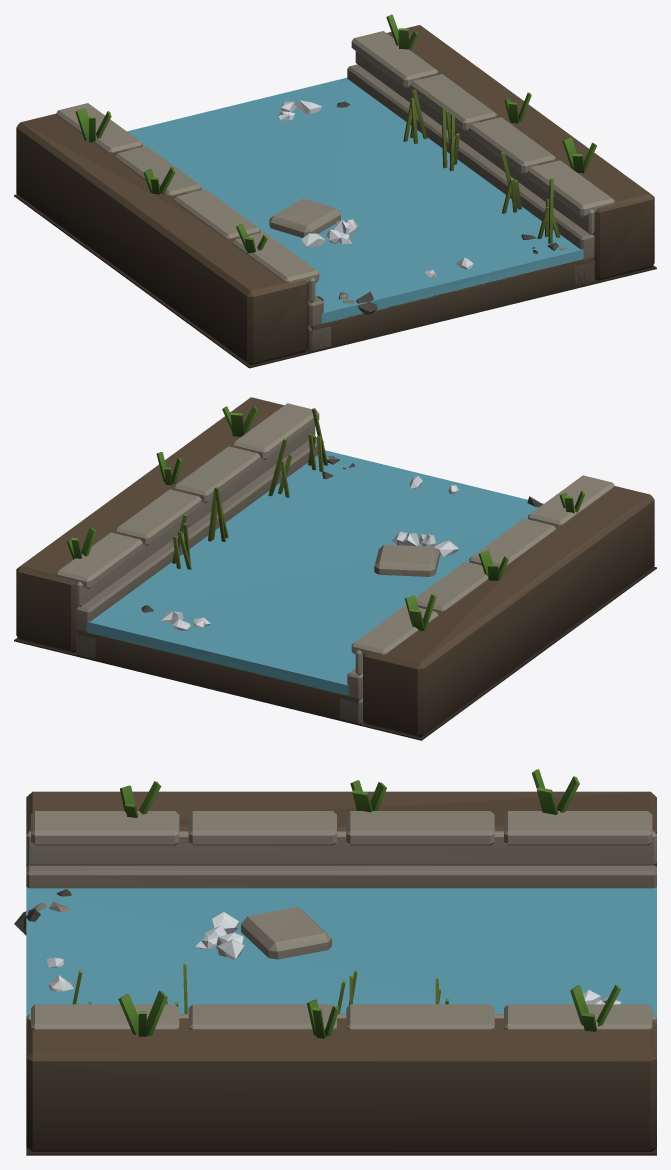
The model's file is river-under-bridge-tile.glb.
The picture shows the model from 3 angles, top to bottom: view 1: azimuth 30°, elevation 25°; view 2: azimuth 150°, elevation 25°; view 3: azimuth 270°, elevation 25°; orthographic projection. The views are drawn at different scales.
Parts seen in each view (by area): view 1: river_under_bridge_tile; view 2: river_under_bridge_tile; view 3: river_under_bridge_tile.
Part boxes in pixels (x1,y1,x2,y2): river_under_bridge_tile: [14, 14, 656, 368]; river_under_bridge_tile: [14, 397, 656, 740]; river_under_bridge_tile: [14, 769, 656, 1155].
Size of the model in its own units: 4 by 0.9801 by 4.08.
